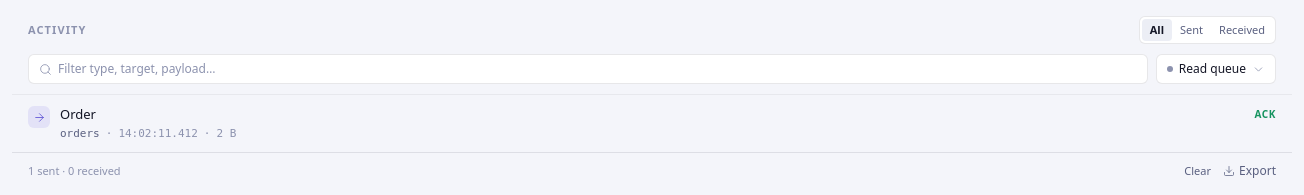
timeline › shows a no-match message when the filter matches nothing
In the search field named "Filter activity": (597, 69) [58,61,1137,77], type "zzznomatch"
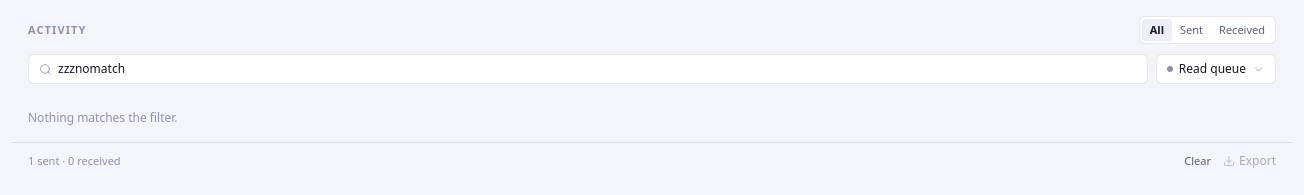
Check: the text "Nothing matches the filter." is shown, box [28,109,178,126]
